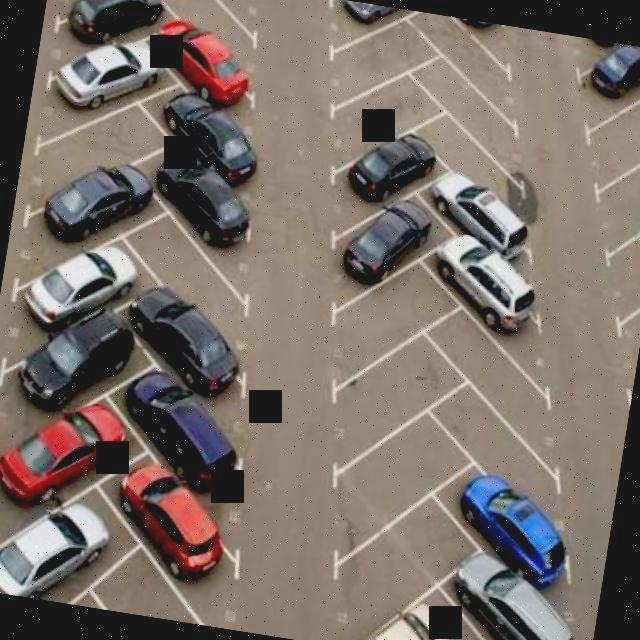space-empty: (359, 522, 441, 598), (352, 279, 413, 351), (365, 367, 426, 429), (155, 224, 215, 287), (445, 76, 511, 131), (371, 431, 428, 493), (76, 113, 145, 164), (354, 79, 408, 139), (118, 555, 164, 618), (443, 28, 499, 79), (476, 348, 533, 398), (363, 28, 417, 80), (432, 129, 510, 162), (589, 120, 640, 161), (616, 168, 640, 241), (180, 0, 227, 35), (469, 416, 516, 450), (625, 241, 640, 289)
space-occupied: (129, 477, 214, 553), (148, 295, 230, 371), (473, 470, 555, 546), (58, 160, 145, 231), (75, 32, 159, 98), (472, 579, 557, 640), (345, 201, 413, 271), (453, 260, 522, 328), (135, 389, 212, 447), (37, 413, 101, 476), (170, 24, 231, 85), (58, 334, 121, 392), (19, 523, 85, 578), (50, 249, 114, 302), (439, 190, 524, 228), (161, 168, 225, 216), (186, 102, 239, 155), (70, 0, 151, 31), (384, 608, 455, 640), (595, 54, 640, 96), (374, 138, 414, 176), (350, 2, 381, 35), (477, 21, 482, 28)
